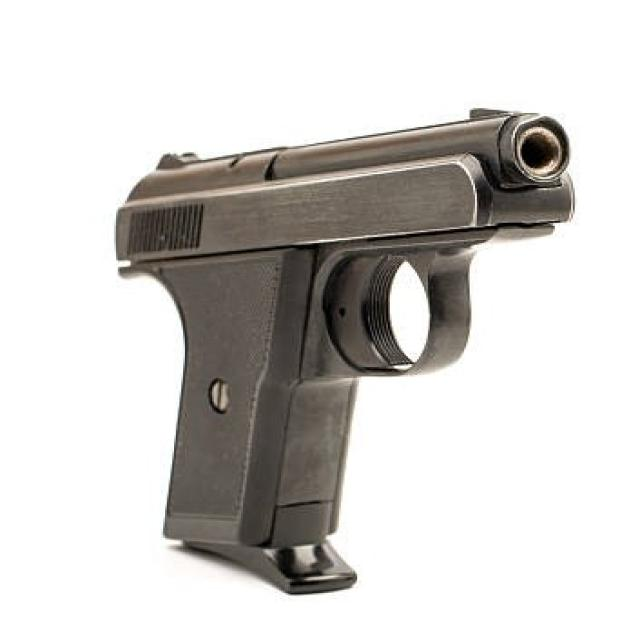pistol: (108, 101, 592, 598)
